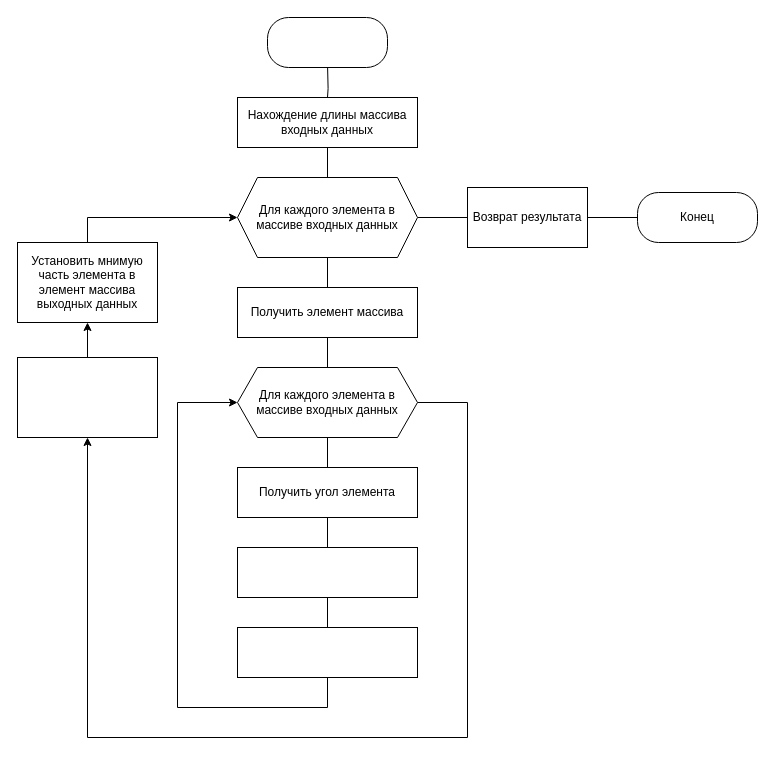
The diagram is 775 pixels wide and 763 high, and some of its shapes have lost their labels. Each missing label, with the centre of its shape:
"Добавить действительную часть элемента" goes at point 327,572.
"Добавить мнимую часть элемента" goes at point 327,652.
"Начало" goes at point 327,42.
"Установить действительную часть элемента в элемент массива выходных данных" goes at point 87,397.
